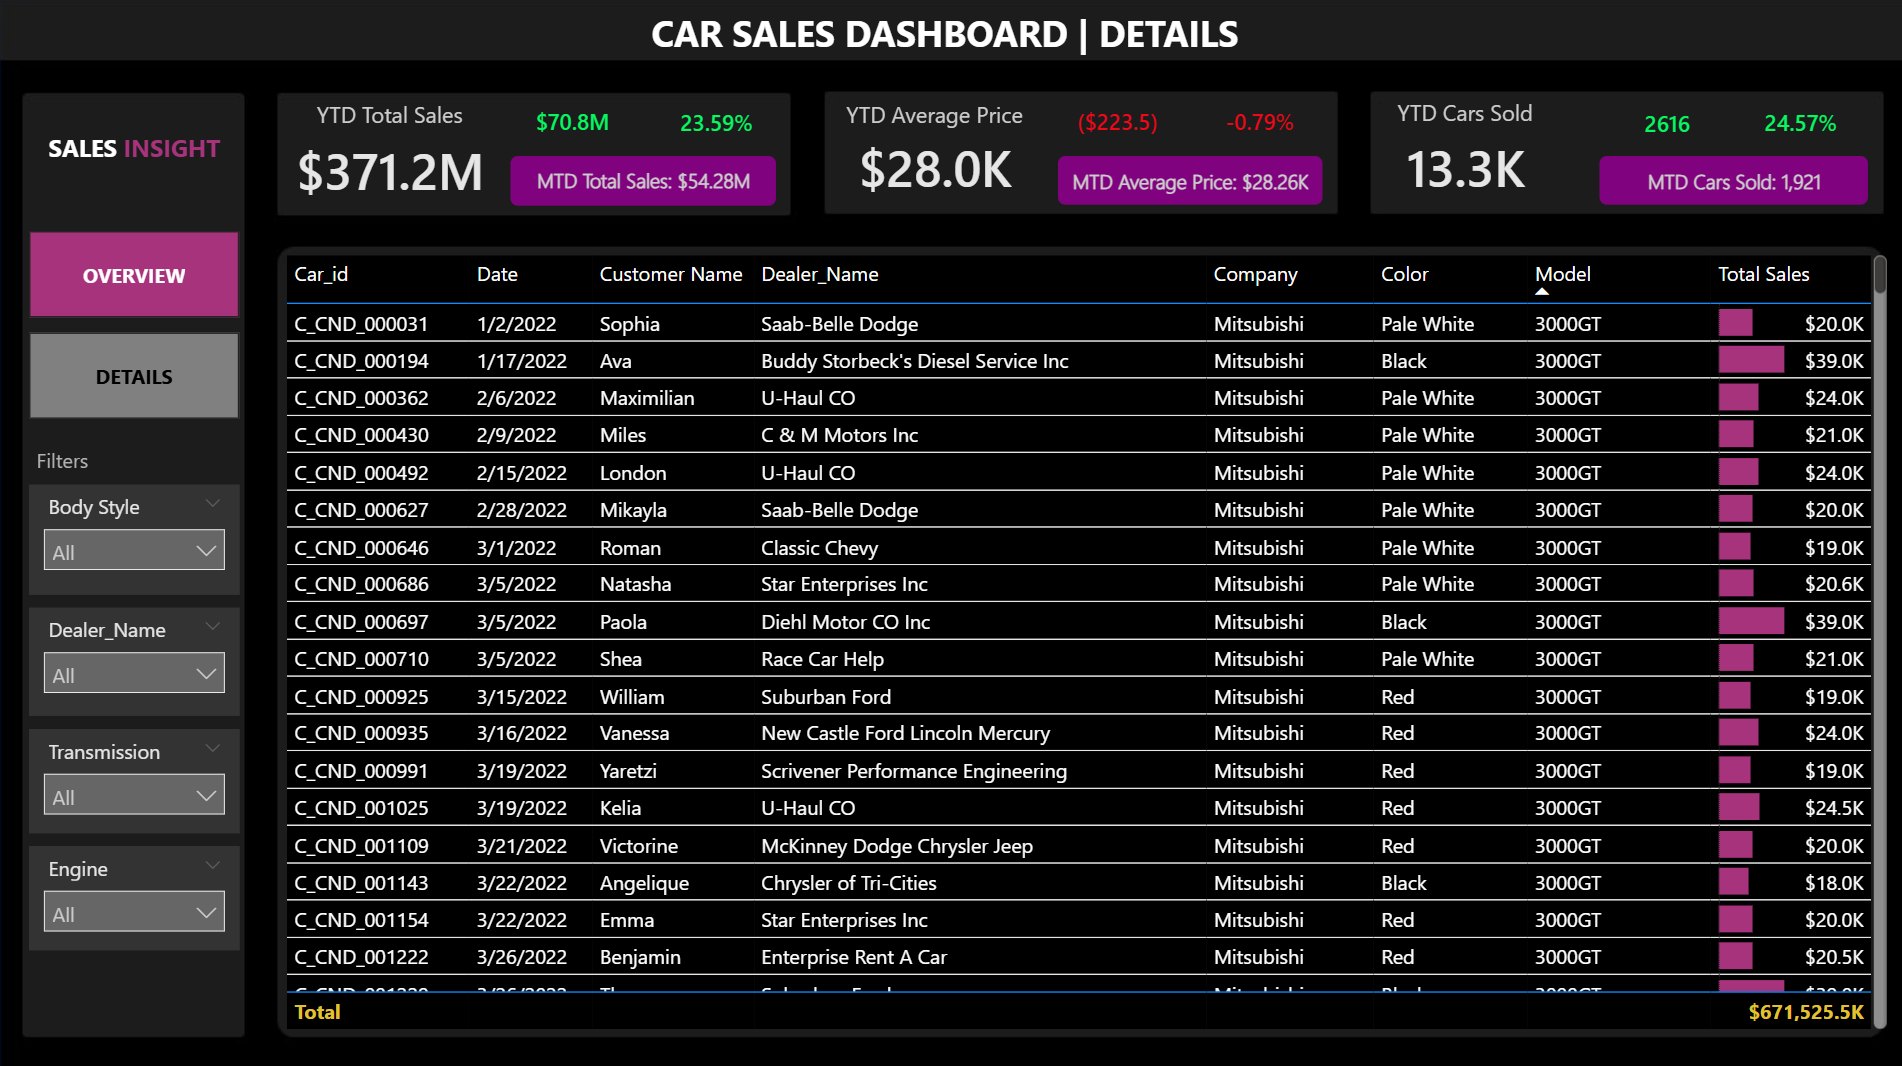

The dashboard page shown, as its layout file describes it:
{"tool":"powerbi","page":{"name":"DETAILS","canvas":[1280,720],"ordinal":1},"visuals":[{"type":"card","title":"YTD Total Sales","fields":{"Values":["Car sale.YTD Total Sale"]},"box":[188.1,66.4,147.8,76.4],"z":0},{"type":"card","fields":{"Values":["Car sale.Sale Difference"]},"box":[335.9,63.4,96.6,40.2],"z":1000},{"type":"card","fields":{"Values":["Car sale.YOY Sale Growth"]},"box":[432.5,63.4,96.6,41.2],"z":2000},{"type":"card","fields":{"Values":["Car sale.MTD KPI"]},"box":[343,104.6,178,33],"z":3000},{"type":"card","title":"YTD Average Price","fields":{"Values":["Car sale.YTD Average Price"]},"box":[553.8,66.2,146.2,72.5],"z":4000},{"type":"card","fields":{"Values":["Car sale.Average Price Difference"]},"box":[699.9,62.9,99.5,39.8],"z":5000},{"type":"card","fields":{"Values":["Car sale.YOY Average Price Growth"]},"box":[799.4,63.9,91.2,38.8],"z":6000},{"type":"card","fields":{"Values":["Car sale.MTD Avg Price KPI"]},"box":[710.4,104.8,177.1,32.5],"z":7000},{"type":"card","title":"YTD Cars Sold","fields":{"Values":["Car sale.YTD Cars Sold"]},"box":[908.4,65,149.8,74.4],"z":8000},{"type":"card","fields":{"Values":["Car sale.Cars Sold Difference"]},"box":[1072.9,66,90.1,36.7],"z":9000},{"type":"card","fields":{"Values":["Car sale.YOY Cars Sold Growth"]},"box":[1163,63.9,90.1,39.8],"z":10000},{"type":"card","fields":{"Values":["Car sale.MTD Cars Sold KPI"]},"box":[1072.9,104.8,180.2,32.5],"z":11000},{"type":"textbox","box":[432.5,0,507.5,48.8],"z":12000},{"type":"slicer","fields":{"Values":["Car sale.Body Style"]},"box":[20,325,141.2,73.8],"z":13000},{"type":"slicer","fields":{"Values":["Car sale.Dealer_Name"]},"box":[20,407.5,141.2,72.5],"z":14000},{"type":"slicer","fields":{"Values":["Car sale.Transmission"]},"box":[20,488.8,141.2,70],"z":15000},{"type":"slicer","fields":{"Values":["Car sale.Engine"]},"box":[20,567.5,141.2,70],"z":16000},{"type":"textbox","box":[20,293.8,141.2,31.2],"z":17000},{"type":"tableEx","fields":{"Values":["Car sale.Car_id","Car sale.Date","Car sale.Customer Name","Car sale.Dealer_Name","Car sale.Company","Car sale.Color","Car sale.Model","Car sale.Price ($)"]},"box":[187.5,166.2,1083.8,528.8],"z":18000},{"type":"textbox","box":[20,82.5,141.2,38.8],"z":19000},{"type":"pageNavigator","box":[20,155,141.2,127.5],"z":20000}]}

Visuals, with their boxes in screenshot pixels (x1, y1, x2, y2), scaled from the page's 1280x720 canvas onto the 1902x1066 screenshot:
"YTD Total Sales" card: bbox=(280, 98, 499, 211)
card - Car sale.Sale Difference: bbox=(499, 94, 643, 153)
card - Car sale.YOY Sale Growth: bbox=(643, 94, 786, 155)
card - Car sale.MTD KPI: bbox=(510, 155, 774, 204)
"YTD Average Price" card: bbox=(823, 98, 1040, 205)
card - Car sale.Average Price Difference: bbox=(1040, 93, 1188, 152)
card - Car sale.YOY Average Price Growth: bbox=(1188, 95, 1323, 152)
card - Car sale.MTD Avg Price KPI: bbox=(1056, 155, 1319, 203)
"YTD Cars Sold" card: bbox=(1350, 96, 1572, 206)
card - Car sale.Cars Sold Difference: bbox=(1594, 98, 1728, 152)
card - Car sale.YOY Cars Sold Growth: bbox=(1728, 95, 1862, 154)
card - Car sale.MTD Cars Sold KPI: bbox=(1594, 155, 1862, 203)
textbox: bbox=(643, 0, 1397, 72)
slicer - Car sale.Body Style: bbox=(30, 481, 240, 590)
slicer - Car sale.Dealer_Name: bbox=(30, 603, 240, 711)
slicer - Car sale.Transmission: bbox=(30, 724, 240, 827)
slicer - Car sale.Engine: bbox=(30, 840, 240, 944)
textbox: bbox=(30, 435, 240, 481)
tableEx - Car sale.Car_id x Car sale.Date: bbox=(279, 246, 1889, 1029)
textbox: bbox=(30, 122, 240, 180)
pageNavigator: bbox=(30, 229, 240, 418)
